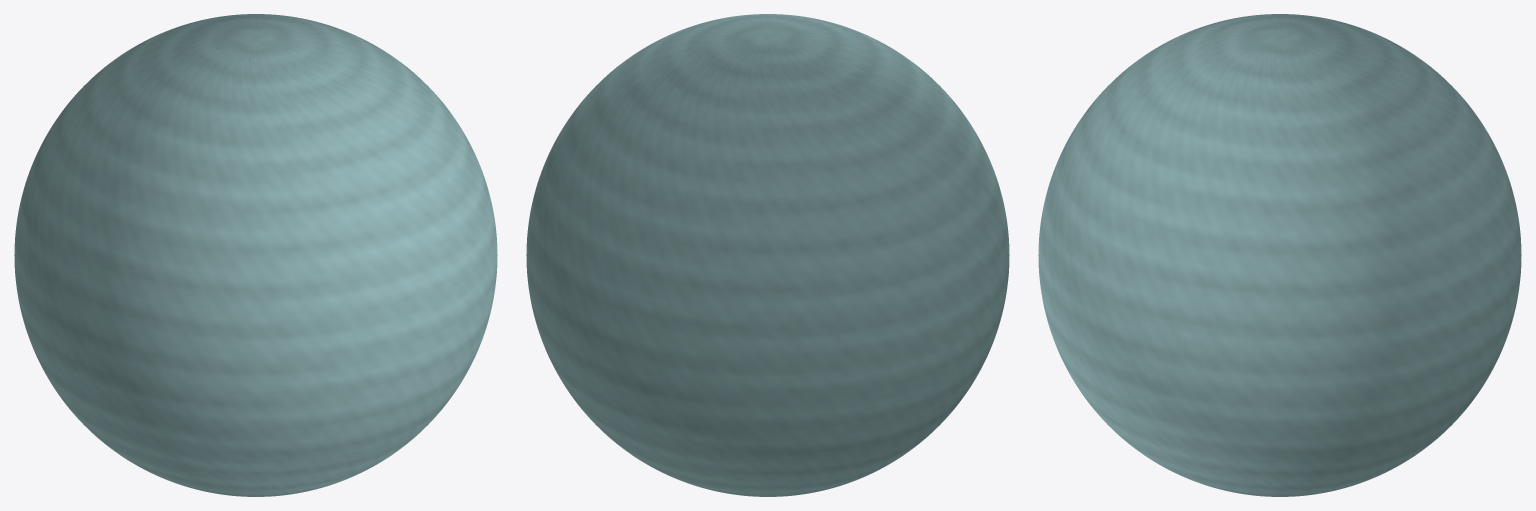
File: uranus.glb
3 views of the same model, side by side, from view 1: azimuth 30°, elevation 25°; view 2: azimuth 150°, elevation 25°; view 3: azimuth 270°, elevation 25° (orthographic).
Size of the model in its own units: 2 by 2 by 2.
